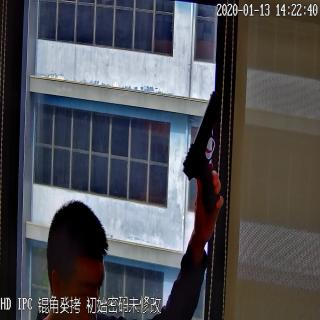gun: (180, 92, 230, 226)
